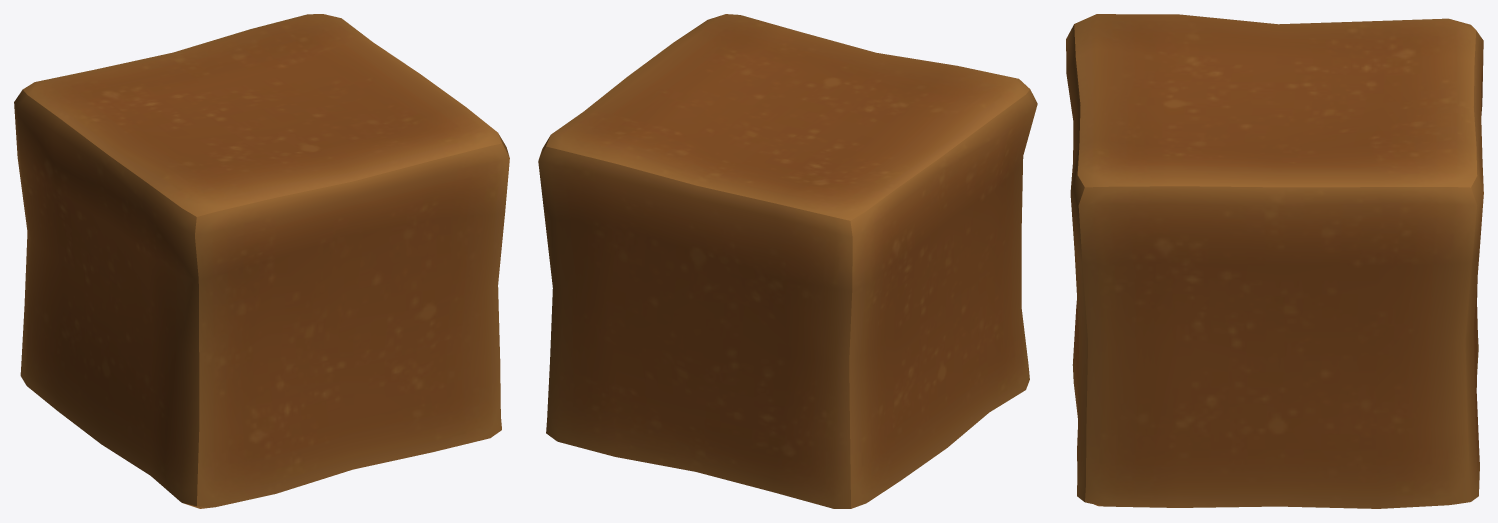
Rendered from CaramelCube.glb.
3 views of the same model, side by side, from view 1: azimuth 30°, elevation 25°; view 2: azimuth 150°, elevation 25°; view 3: azimuth 270°, elevation 25° (orthographic). The views are drawn at different scales.
Visible parts, largest first — view 1: geometry_0; view 2: geometry_0; view 3: geometry_0.
Boxes of the visible parts, left/top/right/bottom form: geometry_0: left=14, top=14, right=509, bottom=508; geometry_0: left=538, top=14, right=1037, bottom=508; geometry_0: left=1066, top=14, right=1483, bottom=508.
Size of the model in its own units: 0.6466 by 0.5778 by 0.6398.
1 material, 1 textured.
